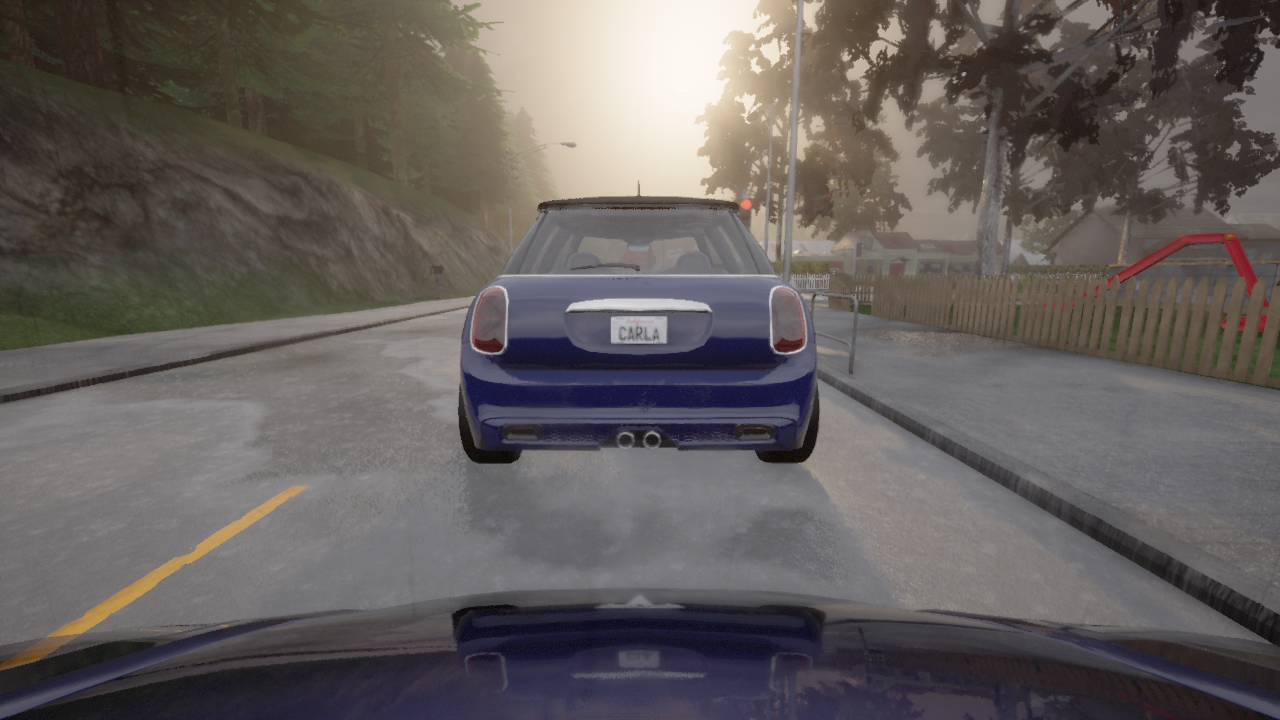cyclist: (0, 588, 1279, 719), (458, 180, 819, 462), (829, 268, 849, 279)
pedestrian: (429, 257, 448, 300), (773, 263, 778, 273)
